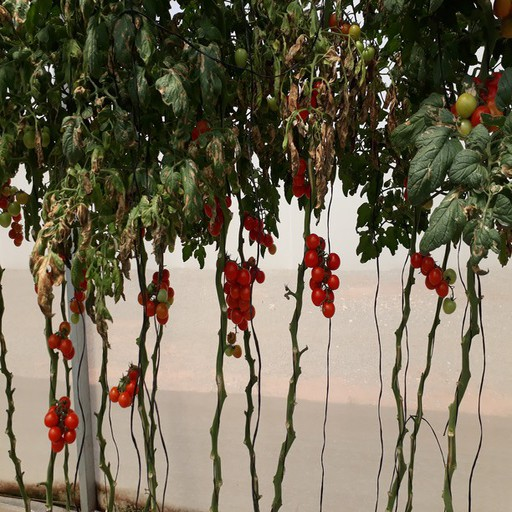dry leaves: (282, 35, 356, 175), (33, 184, 95, 312)
green tomato bunch: (1, 174, 32, 245)
red tomato bunch: (33, 184, 95, 312), (450, 70, 512, 145), (304, 233, 340, 319), (222, 259, 256, 333), (138, 268, 176, 327), (44, 397, 79, 453), (240, 201, 276, 252), (409, 250, 448, 296), (107, 363, 144, 410), (293, 155, 320, 203), (44, 321, 75, 361), (206, 190, 231, 235), (189, 116, 217, 150)
